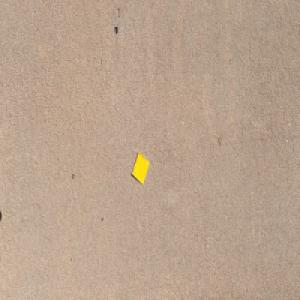PlasticPart: (131, 151, 149, 185)
